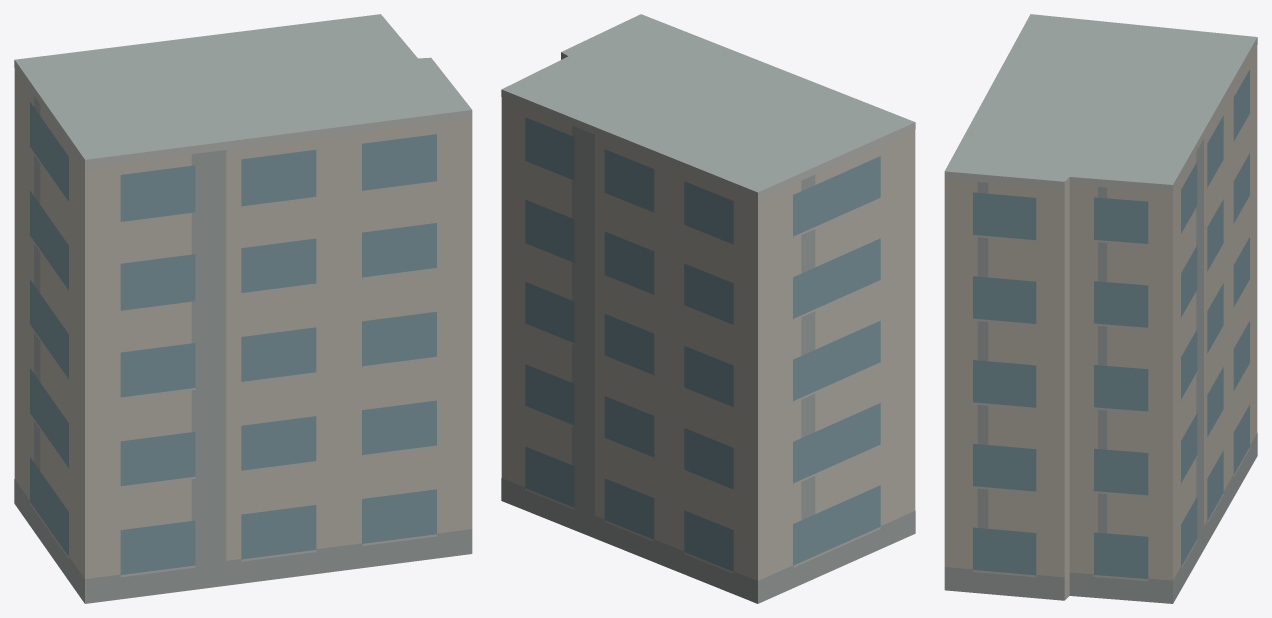
Rendered from survey-upis-32727965.glb.
3 renders of one model, left to right at view 1: azimuth 30°, elevation 25°; view 2: azimuth 150°, elevation 25°; view 3: azimuth 270°, elevation 25°, orthographic. The views are drawn at different scales.
Parts seen in each view (by area): view 1: survey-upis-32727965.tmp; view 2: survey-upis-32727965.tmp; view 3: survey-upis-32727965.tmp.
Boxes of the visible parts, x1,y1,x2,y2 form: survey-upis-32727965.tmp: [14, 14, 472, 603]; survey-upis-32727965.tmp: [501, 14, 915, 603]; survey-upis-32727965.tmp: [944, 14, 1257, 603].
Size of the model in its own units: 11.56 by 13.2 by 8.95.
